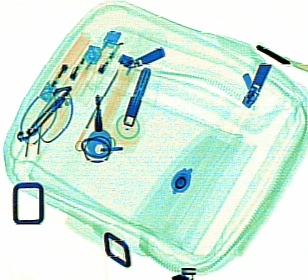lighter: (37, 30, 90, 102), (70, 30, 124, 97), (52, 44, 102, 109)
